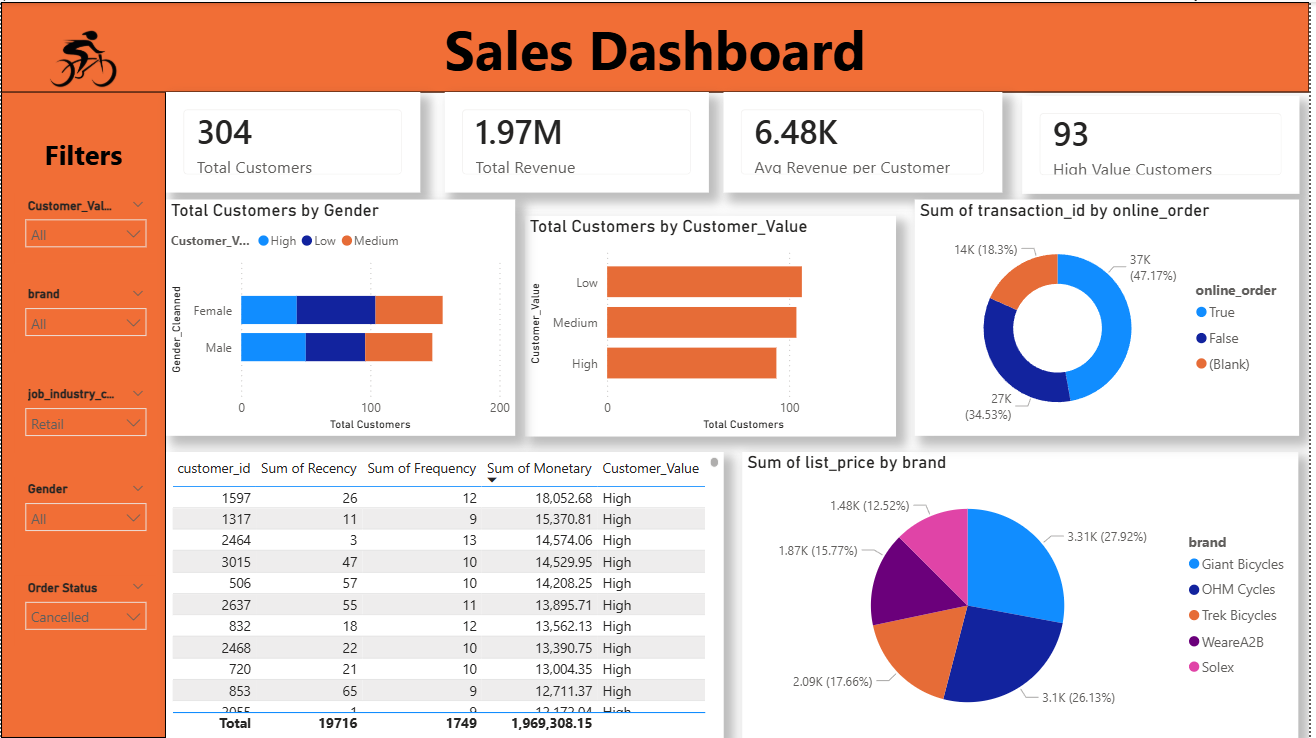

The dashboard page shown, as its layout file describes it:
{"tool":"powerbi","page":{"name":"Dashboard","canvas":[1280,720],"ordinal":3},"visuals":[{"type":"shape","box":[0,0,161.4,720],"z":0},{"type":"shape","box":[0,0,1280,88.6],"z":1000},{"type":"image","box":[0,0,161.4,111.4],"z":2000},{"type":"cardVisual","fields":{"Data":["CustomerAddress.Total Customers"]},"box":[161.4,88.6,248.6,98.6],"z":3000},{"type":"cardVisual","fields":{"Data":["CustomerAddress.Total Revenue"]},"box":[434.3,88.6,258.6,98.6],"z":4000},{"type":"cardVisual","fields":{"Data":["CustomerAddress.Avg Revenue per Customer"]},"box":[707.1,88.6,272.9,98.6],"z":5000},{"type":"cardVisual","fields":{"Data":["CustomerAddress.High Value Customers"]},"box":[998.6,91.4,271.4,95.7],"z":6000},{"type":"slicer","fields":{"Values":["rfm_final.Customer_Value"]},"box":[12.9,187.1,138.6,68.6],"z":7000},{"type":"clusteredBarChart","fields":{"Category":["rfm_final.Customer_Value"],"Y":["CustomerAddress.Total Customers"]},"box":[512.9,208.6,362.9,215.7],"z":8000},{"type":"barChart","title":"Total Customers by Gender","fields":{"Category":["CustomerDemographic.Gender_Cleanned"],"Y":["CustomerAddress.Total Customers"],"Series":["rfm_final.Customer_Value"]},"box":[161.4,192.9,341.4,231.4],"z":9000},{"type":"tableEx","fields":{"Values":["CustomerDemographic.customer_id","Sum(rfm_final.Recency)","Sum(rfm_final.Frequency)","Sum(rfm_final.Monetary)","rfm_final.Customer_Value"]},"box":[161.4,440,545.7,280],"z":10000},{"type":"pieChart","fields":{"Category":["Transactions.brand"],"Y":["Sum(Transactions.list_price)"]},"box":[725.7,440,544.3,280],"z":11000},{"type":"donutChart","fields":{"Category":["Transactions.online_order"],"Y":["Sum(Transactions.transaction_id)"]},"box":[894.3,192.9,375.7,231.4],"z":12000},{"type":"slicer","fields":{"Values":["Transactions.brand"]},"box":[12.9,274.3,138.6,68.6],"z":12001},{"type":"slicer","fields":{"Values":["CustomerDemographic.job_industry_category"]},"box":[12.9,371.4,138.6,68.6],"z":12002},{"type":"slicer","fields":{"Values":["CustomerDemographic.Gender_Cleanned"]},"box":[12.9,464.3,138.6,68.6],"z":12003},{"type":"slicer","fields":{"Values":["Transactions.order_status"]},"box":[12.9,561.4,138.6,68.6],"z":12004}]}

Visuals, with their boxes in screenshot pixels (x1, y1, x2, y2), scaled from the page's 1280x720 canvas onto the 1316x738 screenshot:
shape: (x1=0, y1=0, x2=166, y2=737)
shape: (x1=0, y1=0, x2=1315, y2=91)
image: (x1=0, y1=0, x2=166, y2=114)
cardVisual - CustomerAddress.Total Customers: (x1=166, y1=91, x2=422, y2=192)
cardVisual - CustomerAddress.Total Revenue: (x1=447, y1=91, x2=712, y2=192)
cardVisual - CustomerAddress.Avg Revenue per Customer: (x1=727, y1=91, x2=1008, y2=192)
cardVisual - CustomerAddress.High Value Customers: (x1=1027, y1=94, x2=1306, y2=192)
slicer - rfm_final.Customer_Value: (x1=13, y1=192, x2=156, y2=262)
clusteredBarChart - rfm_final.Customer_Value x CustomerAddress.Total Customers: (x1=527, y1=214, x2=900, y2=435)
"Total Customers by Gender" barChart: (x1=166, y1=198, x2=517, y2=435)
tableEx - CustomerDemographic.customer_id x Sum(rfm_final.Recency): (x1=166, y1=451, x2=727, y2=737)
pieChart - Transactions.brand x Sum(Transactions.list_price): (x1=746, y1=451, x2=1306, y2=737)
donutChart - Transactions.online_order x Sum(Transactions.transaction_id): (x1=919, y1=198, x2=1306, y2=435)
slicer - Transactions.brand: (x1=13, y1=281, x2=156, y2=351)
slicer - CustomerDemographic.job_industry_category: (x1=13, y1=381, x2=156, y2=451)
slicer - CustomerDemographic.Gender_Cleanned: (x1=13, y1=476, x2=156, y2=546)
slicer - Transactions.order_status: (x1=13, y1=575, x2=156, y2=646)
